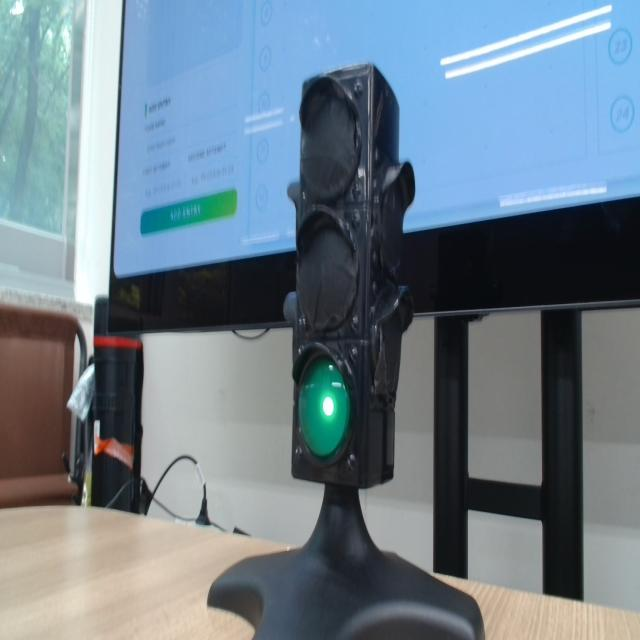green_light: (298, 357, 350, 458), (323, 396, 333, 416)
